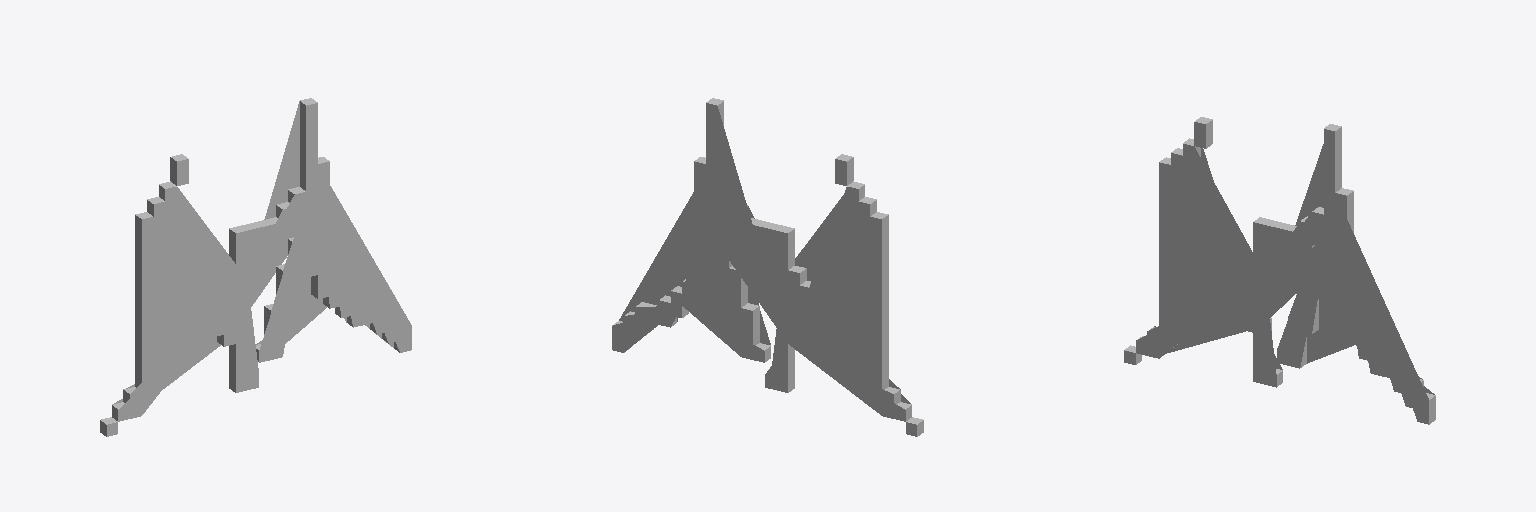
The model's file is Pods_1.obj.
The picture shows the model from 3 angles: view 1: azimuth 30°, elevation 25°; view 2: azimuth 150°, elevation 25°; view 3: azimuth 330°, elevation 25°; orthographic projection.
Parts seen in each view (by area): view 1: Pods_1_Pods_1.001; view 2: Pods_1_Pods_1.001; view 3: Pods_1_Pods_1.001.
Boxes of the visible parts, x1,y1,x2,y2 form: Pods_1_Pods_1.001: [100, 98, 411, 436]; Pods_1_Pods_1.001: [612, 98, 923, 436]; Pods_1_Pods_1.001: [1124, 117, 1435, 424].
Size of the model in its own units: 2.6 by 2.3 by 0.1.